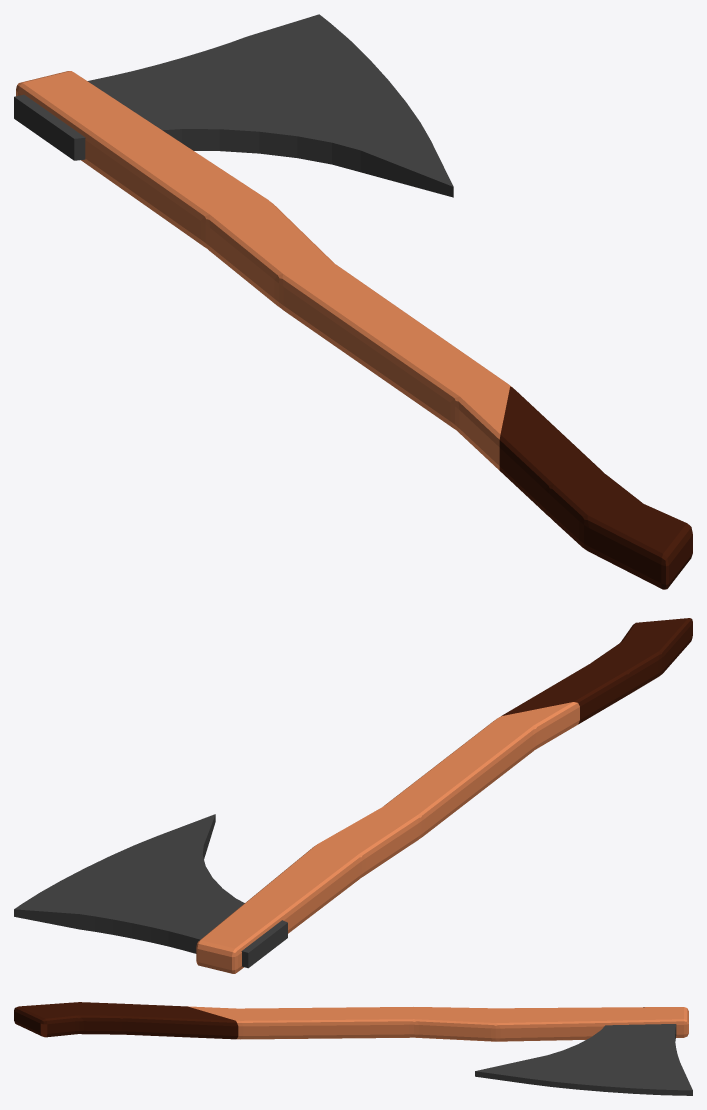
The picture shows the model from 3 angles, top to bottom: view 1: azimuth 30°, elevation 25°; view 2: azimuth 150°, elevation 25°; view 3: azimuth 270°, elevation 25°; orthographic projection. The views are drawn at different scales.
Visible parts, largest first — view 1: 45; view 2: 45; view 3: 45.
Boxes of the visible parts, bbox=[...] form: 45: bbox=[14, 14, 692, 589]; 45: bbox=[14, 618, 692, 973]; 45: bbox=[14, 1002, 692, 1095].
Size of the model in its own units: 8.8 by 0.9218 by 30.44.
